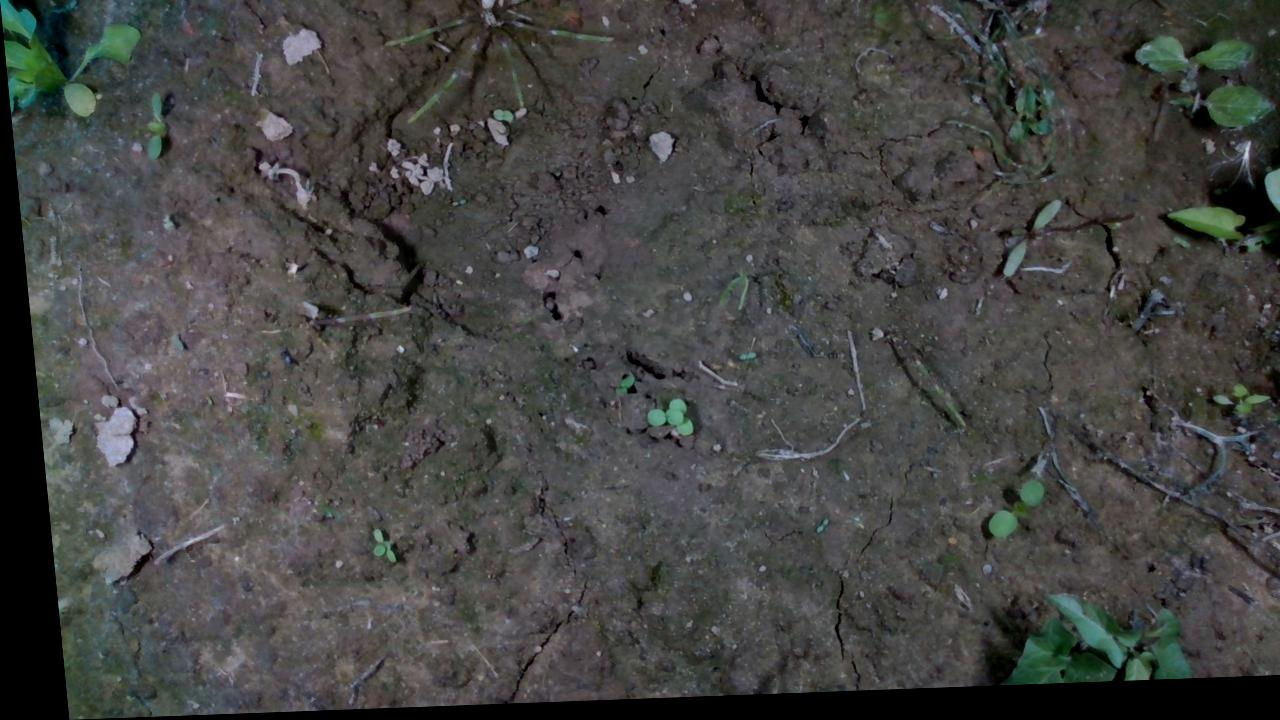weed: (989, 204, 1062, 285), (972, 485, 1037, 545), (1198, 388, 1262, 424), (136, 90, 166, 161), (348, 525, 395, 569)
